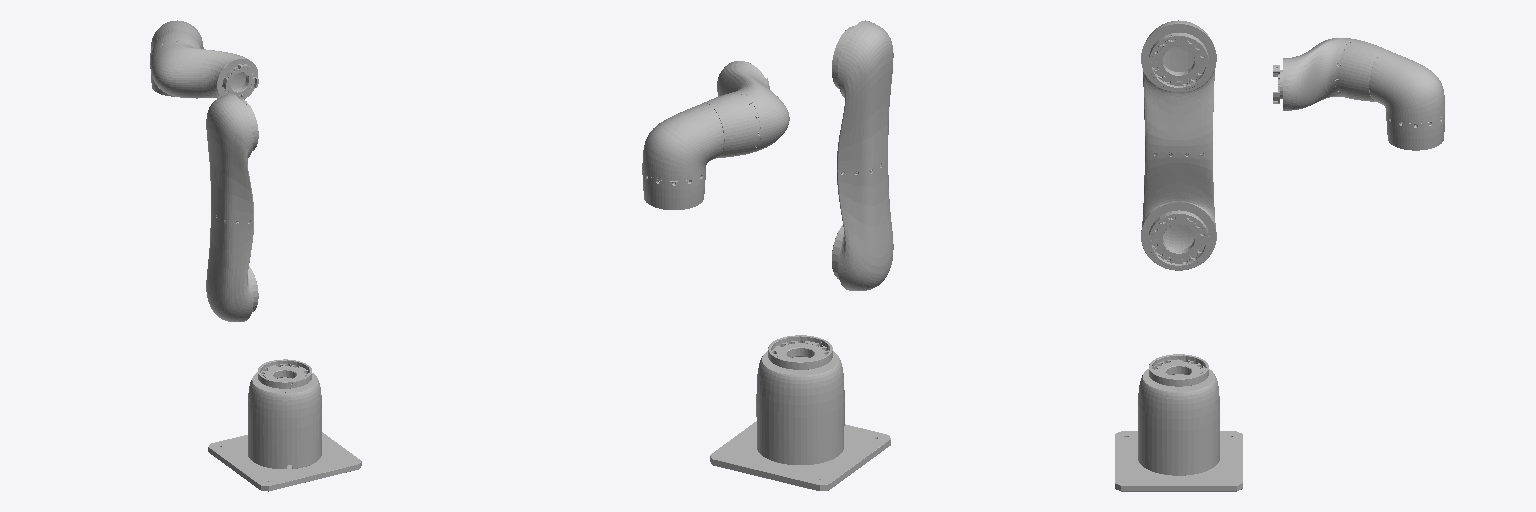
URDF robot description (syncro_5):
<?xml version="1.0" encoding="utf-8"?>
<!-- This URDF was automatically created by SolidWorks to URDF Exporter! Originally created by [author] ([email redacted]) 
     Commit Version: 1.6.0-4-g7f85cfe  Build Version: 1.6.7995.38578
     For more information, please see http://wiki.ros.org/sw_urdf_exporter -->
<robot
  name="syncro_5">
  <link
    name="base_link">
    <inertial>
      <origin
        xyz="9.6595E-07 2.2406E-05 0.022616"
        rpy="0 0 0" />
      <mass
        value="3.839" />
      <inertia
        ixx="0.01337"
        ixy="2.1124E-06"
        ixz="3.5547E-06"
        iyy="0.013374"
        iyz="7.0309E-06"
        izz="0.022707" />
    </inertial>
    <visual>
      <origin
        xyz="0 0 0"
        rpy="0 0 0" />
      <geometry>
        <mesh
          filename="meshes/syncro_5/base_link.STL" />
      </geometry>
      <material
        name="">
        <color
          rgba="0.75294 0.75294 0.75294 1" />
      </material>
    </visual>
    <collision>
      <origin
        xyz="0 0 0"
        rpy="0 0 0" />
      <geometry>
        <mesh
          filename="meshes/syncro_5/base_link.STL" />
      </geometry>
    </collision>
  </link>
  <link
    name="link1">
    <inertial>
      <origin
        xyz="-0.012435 -2.5345E-05 0.28172"
        rpy="0 0 0" />
      <mass
        value="5.0617" />
      <inertia
        ixx="0.011934"
        ixy="-4.2772E-06"
        ixz="0.0016521"
        iyy="0.011427"
        iyz="3.2849E-06"
        izz="0.0091785" />
    </inertial>
    <visual>
      <origin
        xyz="0 0 0"
        rpy="0 0 0" />
      <geometry>
        <mesh
          filename="meshes/syncro_5/link1.STL" />
      </geometry>
      <material
        name="">
        <color
          rgba="0.75294 0.75294 0.75294 1" />
      </material>
    </visual>
    <collision>
      <origin
        xyz="0 0 0"
        rpy="0 0 0" />
      <geometry>
        <mesh
          filename="meshes/syncro_5/link1.STL" />
      </geometry>
    </collision>
  </link>
  <joint
    name="Joint_1"
    type="revolute">
    <origin
      xyz="0 0 0"
      rpy="0 0 0" />
    <parent
      link="base_link" />
    <child
      link="link1" />
    <axis
      xyz="0 0 1" />
    <limit
      lower="-3.14159"
      upper="3.14159"
      effort="150"
      velocity="2" />
  </joint>
  <link
    name="link2">
    <inertial>
      <origin
        xyz="-0.10679 3.7919E-06 0.15236"
        rpy="0 0 0" />
      <mass
        value="1.2353" />
      <inertia
        ixx="0.0057954"
        ixy="3.2114E-08"
        ixz="3.5658E-06"
        iyy="0.0048706"
        iyz="-6.4438E-07"
        izz="0.0016259" />
    </inertial>
    <visual>
      <origin
        xyz="0 0 0"
        rpy="0 0 0" />
      <geometry>
        <mesh
          filename="meshes/syncro_5/link2.STL" />
      </geometry>
      <material
        name="">
        <color
          rgba="0.75294 0.75294 0.75294 1" />
      </material>
    </visual>
    <collision>
      <origin
        xyz="0 0 0"
        rpy="0 0 0" />
      <geometry>
        <mesh
          filename="meshes/syncro_5/link2.STL" />
      </geometry>
    </collision>
  </link>
  <joint
    name="Joint_2"
    type="revolute">
    <origin
      xyz="0 0 0.346"
      rpy="0 0 0" />
    <parent
      link="link1" />
    <child
      link="link2" />
    <axis
      xyz="-1 0 0" />
    <limit
      lower="-3.14159"
      upper="3.14159"
      effort="150"
      velocity="2" />
  </joint>
  <link
    name="link3">
    <inertial>
      <origin
        xyz="-0.017248 0.035025 -2.2087E-05"
        rpy="0 0 0" />
      <mass
        value="3.5577" />
      <inertia
        ixx="0.0066247"
        ixy="-0.00095453"
        ixz="1.793E-06"
        iyy="0.0050017"
        iyz="1.7882E-06"
        izz="0.0060636" />
    </inertial>
    <visual>
      <origin
        xyz="0 0 0"
        rpy="0 0 0" />
      <geometry>
        <mesh
          filename="meshes/syncro_5/link3.STL" />
      </geometry>
      <material
        name="">
        <color
          rgba="0.75294 0.75294 0.75294 1" />
      </material>
    </visual>
    <collision>
      <origin
        xyz="0 0 0"
        rpy="0 0 0" />
      <geometry>
        <mesh
          filename="meshes/syncro_5/link3.STL" />
      </geometry>
    </collision>
  </link>
  <joint
    name="Joint_3"
    type="revolute">
    <origin
      xyz="0 0 0.305"
      rpy="0 0 0" />
    <parent
      link="link2" />
    <child
      link="link3" />
    <axis
      xyz="1 0 0" />
    <limit
      lower="-3.14159"
      upper="3.14159"
      effort="150"
      velocity="2" />
  </joint>
  <link
    name="link4">
    <inertial>
      <origin
        xyz="-0.047999 -0.10939 4.4809E-05"
        rpy="0 0 0" />
      <mass
        value="1.31" />
      <inertia
        ixx="0.0014749"
        ixy="0.00050231"
        ixz="1.7564E-06"
        iyy="0.0016894"
        iyz="-1.9993E-06"
        izz="0.0017778" />
    </inertial>
    <visual>
      <origin
        xyz="0 0 0"
        rpy="0 0 0" />
      <geometry>
        <mesh
          filename="meshes/syncro_5/link4.STL" />
      </geometry>
      <material
        name="">
        <color
          rgba="0.75294 0.75294 0.75294 1" />
      </material>
    </visual>
    <collision>
      <origin
        xyz="0 0 0"
        rpy="0 0 0" />
      <geometry>
        <mesh
          filename="meshes/syncro_5/link4.STL" />
      </geometry>
    </collision>
  </link>
  <joint
    name="Joint_4"
    type="revolute">
    <origin
      xyz="-0.0009127 0.36813 0"
      rpy="0 0 0" />
    <parent
      link="link3" />
    <child
      link="link4" />
    <axis
      xyz="0 1 0" />
    <limit
      lower="-3.14159"
      upper="3.14159"
      effort="80"
      velocity="2" />
  </joint>
  <link
    name="link5">
    <inertial>
      <origin
        xyz="-0.0015193 -0.0027725 -0.044032"
        rpy="0 0 0" />
      <mass
        value="1.1965" />
      <inertia
        ixx="0.0010777"
        ixy="-3.7989E-05"
        ixz="2.9305E-05"
        iyy="0.0010311"
        iyz="4.9507E-05"
        izz="0.0013412" />
    </inertial>
    <visual>
      <origin
        xyz="0 0 0"
        rpy="0 0 0" />
      <geometry>
        <mesh
          filename="meshes/syncro_5/link5.STL" />
      </geometry>
      <material
        name="">
        <color
          rgba="0.75294 0.75294 0.75294 1" />
      </material>
    </visual>
    <collision>
      <origin
        xyz="0 0 0"
        rpy="0 0 0" />
      <geometry>
        <mesh
          filename="meshes/syncro_5/link5.STL" />
      </geometry>
    </collision>
  </link>
  <joint
    name="Joint_5"
    type="revolute">
    <origin
      xyz="0 0 0"
      rpy="0 0 0" />
    <parent
      link="link4" />
    <child
      link="link5" />
    <axis
      xyz="0.5 0.86603 0"/>
    <limit
      lower="-3.14159"
      upper="3.14159"
      effort="80"
      velocity="2" />
  </joint>
  <link
    name="end-effector">
    <inertial>
      <origin
        xyz="-0.018484 -0.3079 -0.15412"
        rpy="0 0 0" />
      <mass
        value="2.348" />
      <inertia
        ixx="1.629"
        ixy="0.0010369"
        ixz="0.057914"
        iyy="1.3338"
        iyz="-0.30823"
        izz="0.38146" />
    </inertial>
    <visual>
      <origin
        xyz="0 0 0"
        rpy="0 0 0" />
      <geometry>
        <mesh
          filename="meshes/syncro_5/end-effector.STL" />
      </geometry>
      <material
        name="">
        <color
          rgba="1 1 1 1" />
      </material>
    </visual>
    <collision>
      <origin
        xyz="0 0 0"
        rpy="0 0 0" />
      <geometry>
        <mesh
          filename="meshes/syncro_5/end-effector.STL" />
      </geometry>
    </collision>
  </link>
  <joint
    name="Joint_6"
    type="revolute">
    <origin
      xyz="0 0 -0.0975"
      rpy="0 3.14 0" />
    <parent
      link="link5" />
    <child
      link="end-effector" />
    <axis
      xyz="0 0 1" />
    <limit
      lower="-3.14159"
      upper="3.14159"
      effort="80"
      velocity="2" />
  </joint>
</robot>

--- What the picture shows (computed from the rendered views, not written in the file) ---
The picture shows the robot from 3 angles, left to right: view 1: azimuth 30°, elevation 25°; view 2: azimuth 150°, elevation 25°; view 3: azimuth 270°, elevation 25°; orthographic projection.
Robot: syncro_5 — 7 links, 6 joints (6 revolute); root link base_link; default pose: all joints at 0.
Links seen in each view (by area): view 1: base_link, link2, link4, link5; view 2: base_link, link2, link5, link4; view 3: link2, base_link, link5, link4.
Link boxes in pixels (x1,y1,x2,y2): base_link: [208, 359, 361, 491]; link2: [206, 93, 258, 321]; link4: [150, 30, 258, 99]; link5: [150, 20, 203, 96]; base_link: [710, 335, 890, 490]; link2: [832, 20, 893, 290]; link5: [642, 103, 723, 209]; link4: [704, 61, 789, 157]; link2: [1141, 20, 1216, 270]; base_link: [1115, 354, 1242, 491]; link5: [1369, 50, 1444, 150]; link4: [1273, 38, 1388, 110].
Bounding box of the posed robot: 0.2421 × 0.5141 × 0.71 m (x, y, z).
4 mesh visuals loaded from 7 distinct referenced files (4 binary STL); not drawn: 2 (reference not matched to a file when rendering), 1 (file found but could not be loaded).
